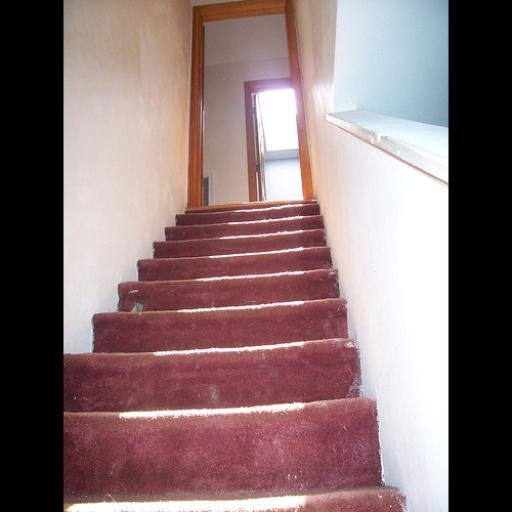stairs: (64, 201, 405, 511)
